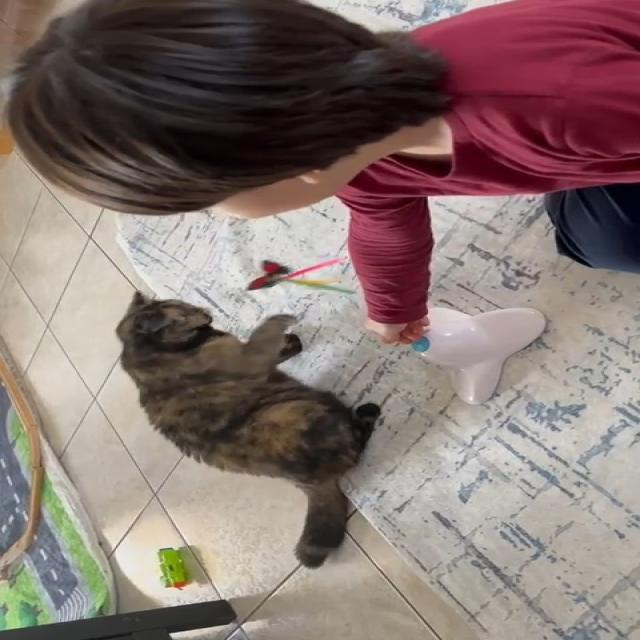authorized: (114, 290, 382, 568)
